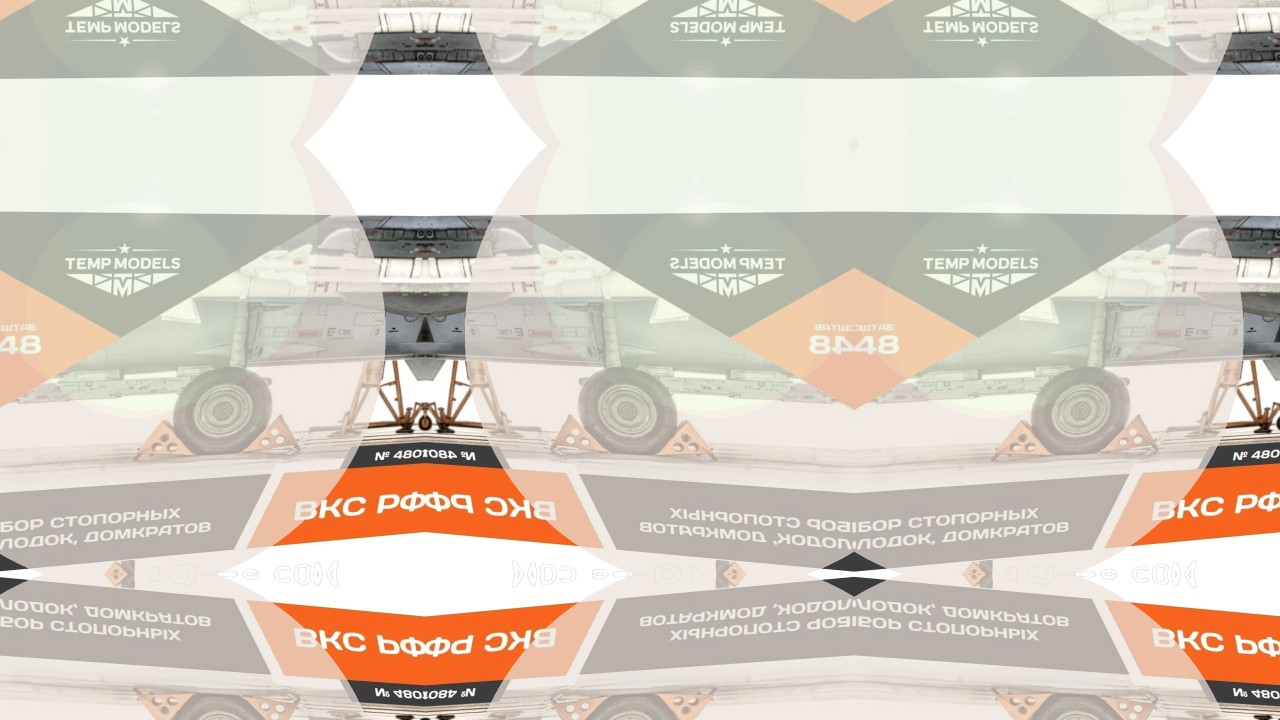chock: (240, 414, 304, 455), (132, 419, 196, 460), (546, 414, 610, 455), (654, 419, 718, 460), (1099, 414, 1163, 455), (991, 419, 1055, 460), (132, 689, 196, 720), (654, 689, 718, 720), (991, 689, 1055, 720), (240, 694, 304, 720), (546, 694, 610, 720), (1099, 694, 1163, 720), (96, 574, 135, 589), (715, 574, 754, 589), (955, 574, 994, 589), (96, 560, 135, 574), (715, 560, 754, 574), (955, 560, 994, 574)
wheel: (168, 363, 277, 455), (573, 363, 682, 455), (1027, 363, 1136, 455), (168, 694, 277, 720), (573, 694, 682, 720), (1027, 694, 1136, 720), (415, 411, 425, 431), (425, 411, 435, 431), (1274, 411, 1280, 431)
